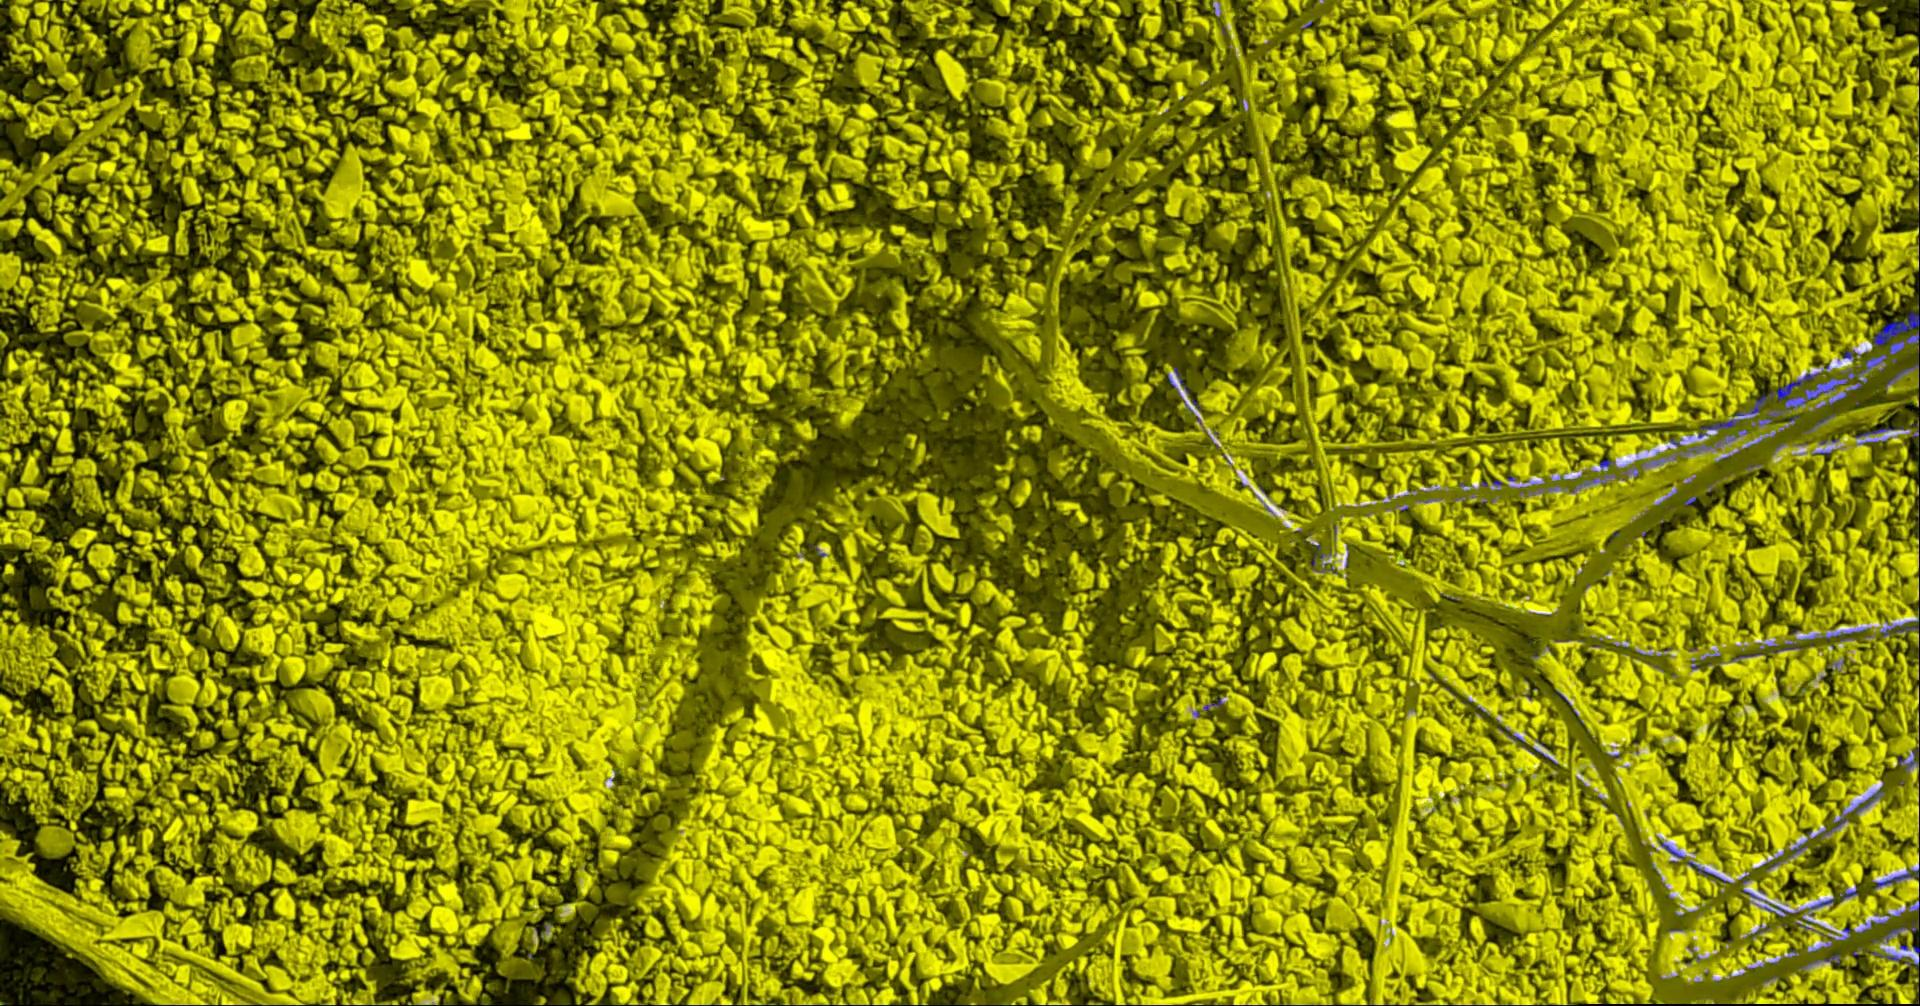ant: (1870, 304, 1919, 354), (1870, 899, 1919, 942), (1870, 945, 1919, 977), (1509, 734, 1556, 763), (1873, 862, 1919, 888), (1851, 780, 1884, 813), (1884, 359, 1919, 391), (1686, 860, 1731, 883), (1806, 817, 1849, 838), (1310, 544, 1337, 573), (1879, 620, 1919, 636), (1821, 627, 1865, 641), (1853, 426, 1906, 437), (1658, 841, 1684, 862), (1897, 747, 1919, 771), (1764, 901, 1796, 916), (1808, 898, 1832, 915), (1807, 953, 1840, 964)
